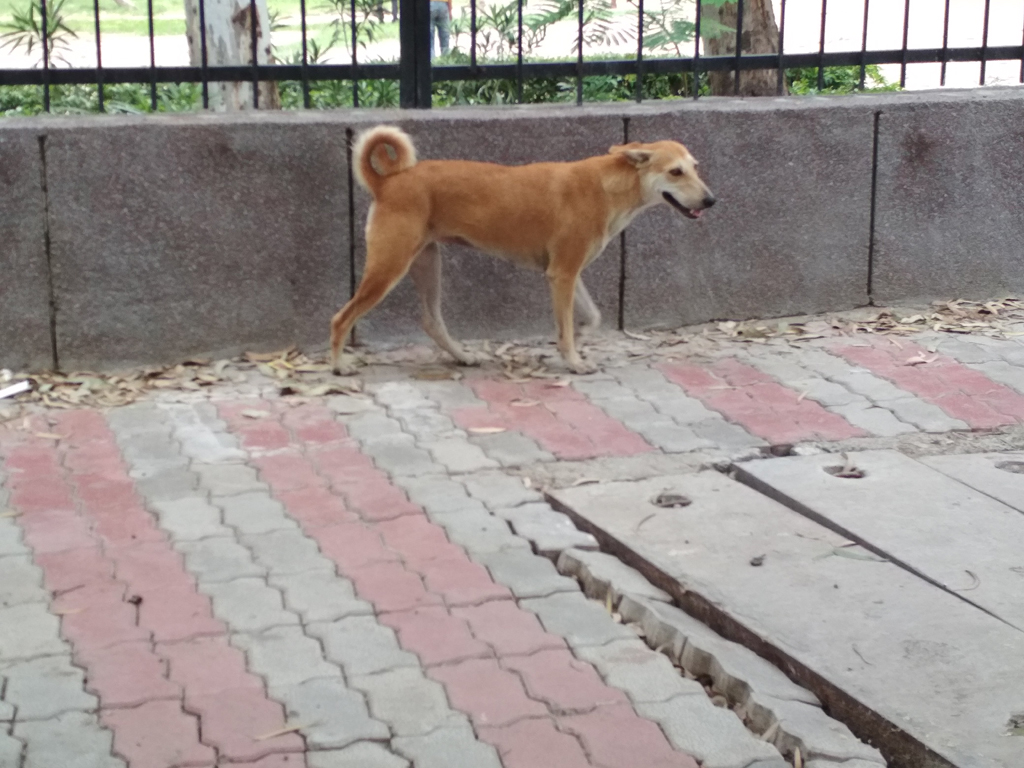dog: (330, 126, 716, 376)
